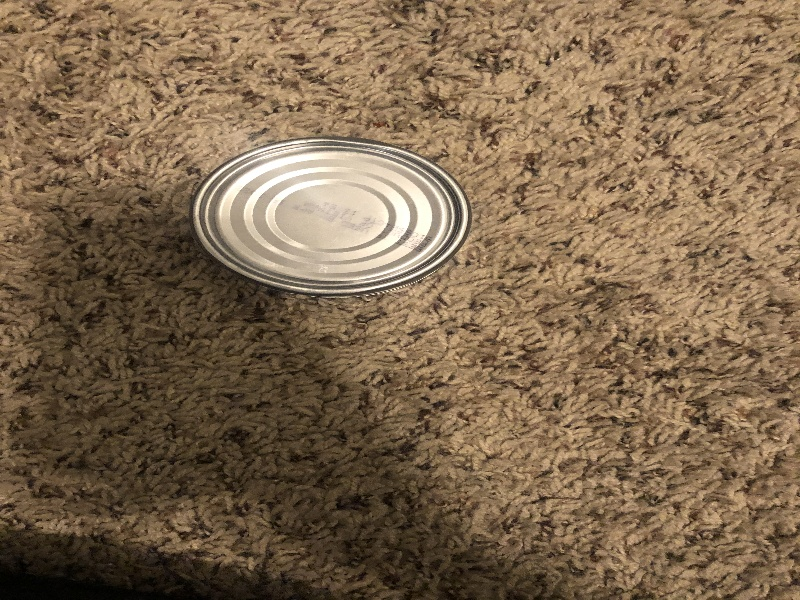metal: (188, 130, 479, 300)
